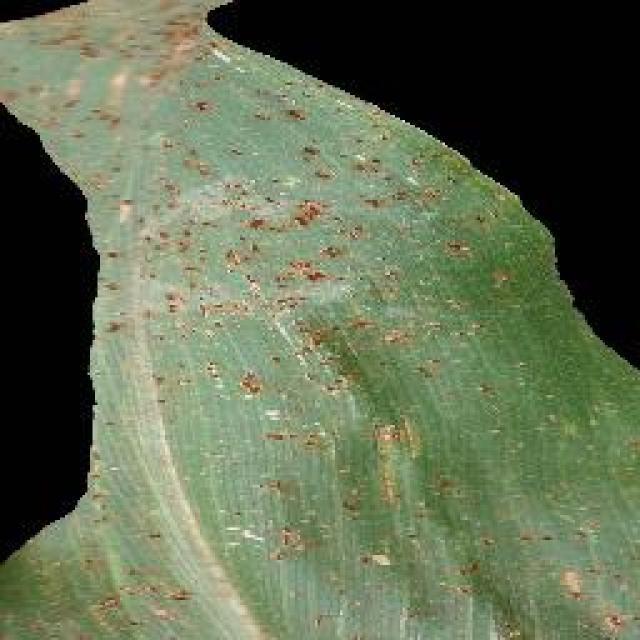Corn Common Rust: (200, 57, 497, 640)
